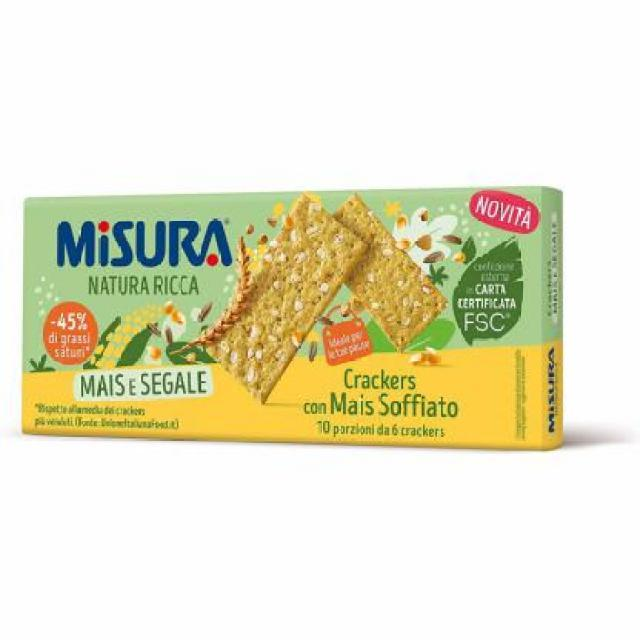Cracker: (13, 180, 581, 466)
